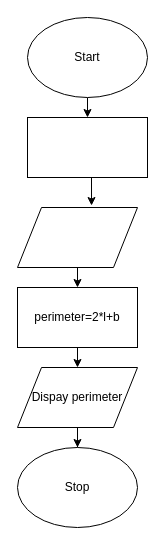
The diagram is 165 pixels wide and 545 high, and some of its shapes have lost their labels. Here are the shapes that lost their labels. From the top down, the centre of each, then its label:
pixel 87 147: Declare l,b,perimeter
pixel 77 237: Read l,b
